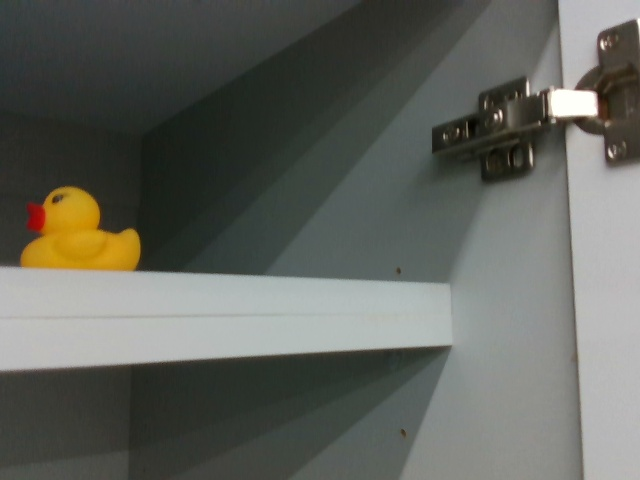duck: (16, 179, 144, 271)
